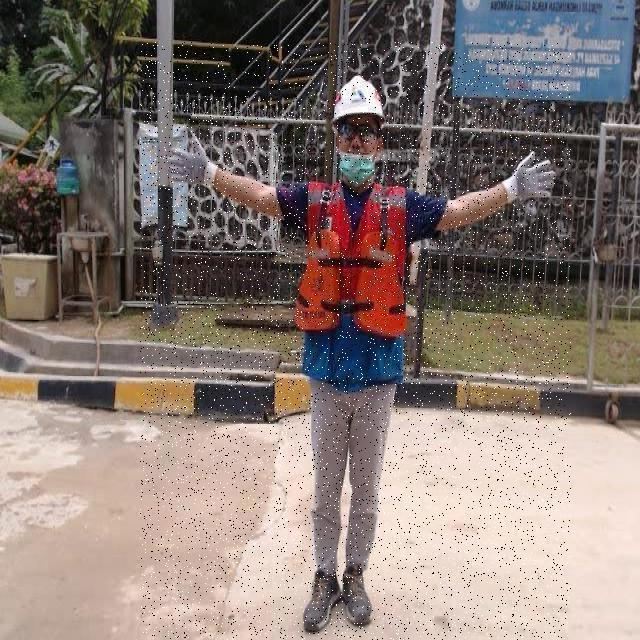gloves: (502, 150, 554, 204), (167, 136, 220, 186)
goggles: (334, 123, 383, 141)
helmet: (326, 64, 386, 133)
safety_vest: (289, 177, 413, 352)
